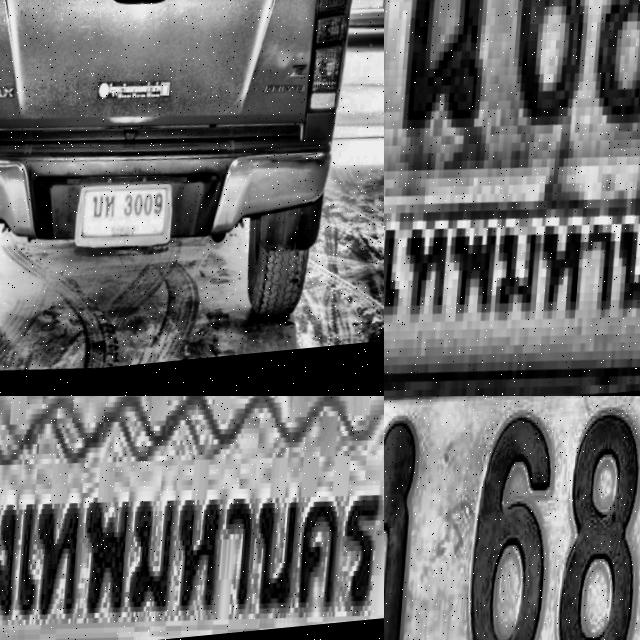license-plate: (384, 0, 640, 396), (0, 396, 384, 640), (384, 396, 640, 640), (76, 184, 173, 258)
